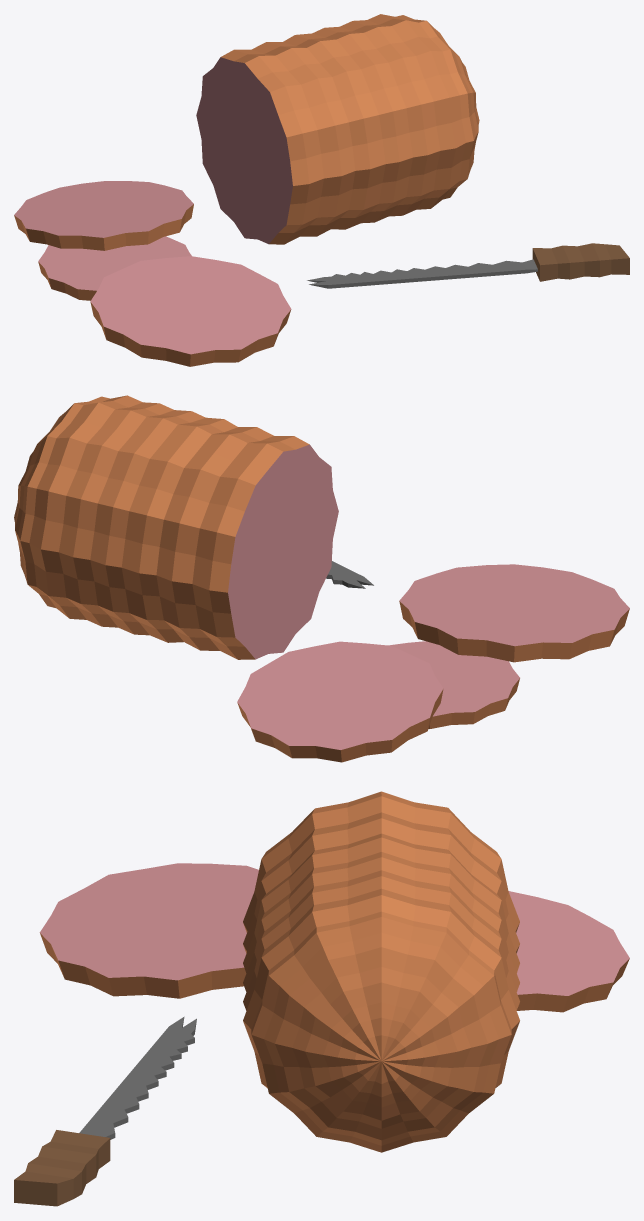
Rendered from HamTable.fbx.
The picture shows the model from 3 angles, top to bottom: view 1: azimuth 30°, elevation 25°; view 2: azimuth 150°, elevation 25°; view 3: azimuth 270°, elevation 25°; orthographic projection. The views are drawn at different scales.
Visible parts, largest first — view 1: Cylinder.006; view 2: Cylinder.006; view 3: Cylinder.006.
Boxes of the visible parts, x1,y1,x2,y2 form: Cylinder.006: [14, 14, 629, 366]; Cylinder.006: [14, 395, 629, 762]; Cylinder.006: [14, 791, 629, 1206].
Size of the model in its own units: 152 by 56.56 by 125.
